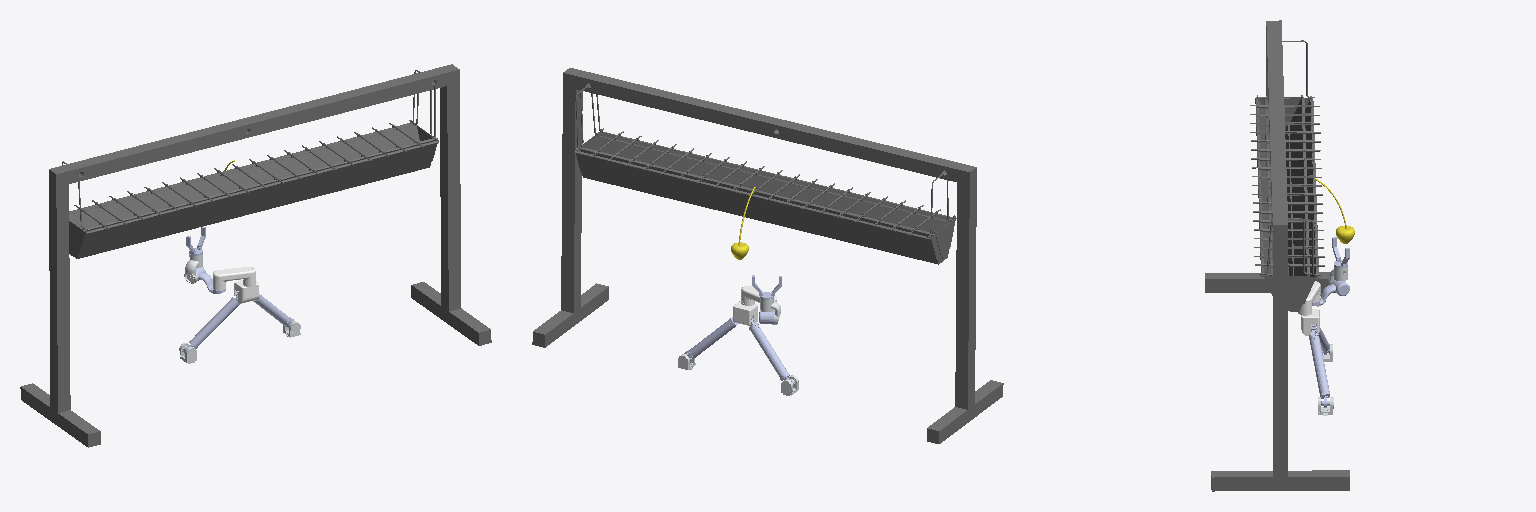
--- Facts derived from the render (not from the file) ---
Views: 3 orthographic renders of the robot side by side, from view 1: azimuth 30°, elevation 25°; view 2: azimuth 150°, elevation 25°; view 3: azimuth 270°, elevation 25°.
Robot: arm12 — 23 links, 22 joints (10 revolute, 6 continuous, 2 prismatic, 4 fixed); root link rotated_base; default pose: all joints at 0.
Visible links, largest first — view 1: left_holder, pot, l6, l3; view 2: left_holder, pot, l3, l11; view 3: left_holder, pot, l11.
Boxes of the visible links, x1,y1,x2,y2 form: left_holder: [20, 64, 491, 447]; pot: [62, 70, 434, 255]; l6: [213, 267, 255, 290]; l3: [184, 292, 239, 352]; left_holder: [532, 68, 1003, 443]; pot: [574, 85, 951, 264]; l3: [749, 316, 793, 385]; l11: [686, 317, 738, 360]; left_holder: [1205, 20, 1349, 491]; pot: [1259, 40, 1324, 311]; l11: [1309, 325, 1329, 407].
Bounding box of the posed robot: 2.42 × 0.731 × 1.44 m (x, y, z).
12 mesh visuals loaded from 14 distinct referenced files (10 binary STL, 2 ASCII STL); not drawn: 2 (reference not matched to a file when rendering).

The robot description file, URDF, robot "arm12":
<?xml version="1.0" ?>
<!-- =================================================================================== -->
<!-- |    This document was autogenerated by xacro from src/arm12/urdf/arm12.urdf.xacro | -->
<!-- |    EDITING THIS FILE BY HAND IS NOT RECOMMENDED                                 | -->
<!-- =================================================================================== -->
<robot name="arm12">
  <!-- <robot
  name="straw"> -->
  <material name="gray">
    <color rgba="0.5 0.5 0.5 1.0"/>
  </material>
  <material name="green">
    <color rgba="0. 1 0. 1.0"/>
  </material>

  <link name="straw_base_link">
    <inertial>
      <origin rpy="0 0 0" xyz="0.72536 -2.6077 -1.278"/>
      <mass value="83.793"/>
      <inertia ixx="49.037" ixy="12.983" ixz="-0.85625" iyy="197.29" iyz="0.10604" izz="153.05"/>
    </inertial>
    <!-- <visual>
      <origin rpy="0 0 0" xyz="0 0 0"/>
      <geometry>
        <mesh filename="package://straw/meshes/straw_base_link.STL" scale="0.75 0.75 0.75"/>
      </geometry>
      <material name="gray"/>
    </visual> -->
    <collision>
      <origin rpy="0 0 0" xyz="0 0 0"/>
      <geometry>
        <mesh filename="package://straw/meshes/straw_base_link.STL"  scale="0.75 0.75 0.75"/>
      </geometry>
    </collision>
  </link>
  <link name="left_holder">
    <inertial>
      <origin rpy="0 0 0" xyz="0.068289 -1.3911 0.41242"/>
      <mass value="90.637"/>
      <inertia ixx="203.28" ixy="-5.2628E-06" ixz="-4.6215E-05" iyy="48.292" iyz="5.4272" izz="157.67"/>
    </inertial>
    <visual>
      <origin rpy="0 0 0" xyz="0 0 0"/>
      <geometry>
        <mesh filename="package://straw/meshes/left_holder.STL"  scale="0.75 0.75 0.75"/>
      </geometry>
      <material name="gray"/>
    </visual>
    <!-- <collision>
      <origin rpy="0 0 0" xyz="0 0 0"/>
      <geometry>
        <mesh filename="package://straw/meshes/left_holder.STL"  scale="0.75 0.75 0.75"/>
      </geometry>
    </collision> -->
  </link>
  <joint name="lh1" type="fixed">
    <!-- <origin rpy="-3.1003 -0.0006971 1.4841" xyz="0 0 0"/> -->
    <origin rpy="-3.1003 -0.0006971 1.4841" xyz="2.1219 -2.7952 -0.90577"/>
    <parent link="straw_base_link"/>
    <child link="left_holder"/>
    <axis xyz="0 0 0"/>
  </joint>
  <link name="pot">
    <inertial>
      <origin rpy="0 0 0" xyz="0.0723 -0.11104 1.4288"/>
      <mass value="7.0989"/>
      <inertia ixx="4.8702" ixy="1.4633E-05" ixz="-1.887E-06" iyy="4.8836" iyz="0.044366" izz="0.12976"/>
    </inertial>
    <visual>
      <origin rpy="0 0 0" xyz="0 0 0"/>
      <geometry>
        <mesh filename="package://straw/meshes/pot.STL"  scale="0.75 0.75 0.75"/>
      </geometry>
      <material name="gray"/>
    </visual>
    <collision>
      <origin rpy="0 0 0" xyz="0 0 0"/>
      <geometry>
        <mesh filename="package://straw/meshes/pot.STL"  scale="0.75 0.75 0.75"/>
      </geometry>
    </collision>
  </link>
  <joint name="lf_pot" type="fixed">
    <origin rpy="-1.5306 0 -3.1416" xyz="0.17343 0.013392 0.017884"/>
    <parent link="left_holder"/>
    <child link="pot"/>
    <axis xyz="0 0 0"/>
  </joint>
  <!-- <link name="stem1">
    <inertial>
      <origin rpy="0 0 0" xyz="0.31086 -0.35019 0.00026615"/>
      <mass value="1.1291"/>
      <inertia ixx="0.0022005" ixy="0.00034925" ixz="-8.6306E-07" iyy="0.002305" iyz="3.3465E-06" izz="0.0025724"/>
    </inertial>
    <visual>
      <origin rpy="0 0 0" xyz="0 0 0"/>
      <geometry>
        <mesh filename="package://straw/meshes/stem1.STL" scale="0.7 0.7 0.7"/>
      </geometry>
      <material name="green"/>
    </visual>
    <collision>
      <origin rpy="0 0 0" xyz="0 0 0"/>
      <geometry>
        <mesh filename="package://straw/meshes/stem1.STL" scale="0.7 0.7 0.7"/>
      </geometry>
    </collision>
  </link> -->
  <!-- <link name="straw1_intermediate">
    <inertial>
      <mass value="0.001"/>
      <inertia ixx="0.0001" ixy="0" ixz="0" iyy="0.0001" iyz="0" izz="0.0001"/>
    </inertial>
  </link> -->
  <!-- <joint name="stem1_straw1_joint_x" type="revolute">
    <parent link="stem1"/>
    <child link="straw1_intermediate"/>
    <origin rpy="0 0 0" xyz="0.33533 -0.43279 -0.0013777"/>
    <axis xyz="1 0 0"/>
    <limit effort="10" lower="-0.785" upper="0.785" velocity="1"/>
    <dynamics damping="0.5" friction="0.1"/>
  </joint> -->
  <!-- <joint name="stem1_straw1_joint_y" type="revolute">
    <parent link="straw1_intermediate"/>
    <child link="straw1"/>
    <origin rpy="0.25307 -1.4835 0" xyz="0 0 0"/>
    <axis xyz="0 1 0"/>
    <limit effort="10" lower="-0.785" upper="0.785" velocity="1"/>
    <dynamics damping="0.5" friction="0.1"/>
  </joint> -->
  <!-- <link name="straw1">
    <inertial>
      <origin rpy="0 0 0" xyz="0 0.075854 -9.8582E-07"/>
      <mass value="1.0831"/>
      <inertia ixx="0.0017742" ixy="3.2552E-19" ixz="2.1395E-23" iyy="0.0019325" iyz="3.2233E-08" izz="0.0017742"/>
    </inertial>
    <visual>
      <origin rpy="0 0 0" xyz="0 0 0"/>
      <geometry>
        <mesh filename="package://straw/meshes/straw1.STL" scale="1 1 1"/>
      </geometry>
      <material name="transparent_gray">
        <color rgba="0.5 0.5 0.5 0"/> 
      </material>
    </visual>
    <collision>
      <origin rpy="0 0 0" xyz="0 0 0"/>
      <geometry>
        <mesh filename="package://straw/meshes/straw1.STL" scale="1 1 1"/>
      </geometry>
    </collision>
  </link> -->
  <!-- <link name="stem2">
    <inertial>
      <origin rpy="0 0 0" xyz="0.32679 -0.34228 -0.0023318"/>
      <mass value="1.1291"/>
      <inertia ixx="0.0022449" ixy="0.00031251" ixz="-4.7508E-06" iyy="0.0022602" iyz="6.5609E-06" izz="0.0025727"/>
    </inertial>
    <visual>
      <origin rpy="0 0 0" xyz="0 0 0"/>
      <geometry>
        <mesh filename="package://straw/meshes/stem2.STL" scale="0.7 0.7 0.7"/>
      </geometry>
      <material name="green"/>
    </visual>
    <collision>
      <origin rpy="0 0 0" xyz="0 0 0"/>
      <geometry>
        <mesh filename="package://straw/meshes/stem2.STL" scale="0.7 0.7 0.7"/>
      </geometry>
    </collision>
  </link> -->
  <!-- <link name="straw2_intermediate">
    <inertial>
      <mass value="0.001"/>
      <inertia ixx="0.0001" ixy="0" ixz="0" iyy="0.0001" iyz="0" izz="0.0001"/>
    </inertial>
  </link> -->
  <!-- <joint name="stem2_straw2_joint_x" type="revolute">
    <parent link="stem2"/>
    <child link="straw2_intermediate"/>
    <origin rpy="0 0 0" xyz="0.37743 -0.41247 -0.0063167"/>
    <axis xyz="1 0 0"/>
    <limit effort="10" lower="-0.785" upper="0.785" velocity="1"/>
    <dynamics damping="0.5" friction="0.1"/>
  </joint> -->
  <!-- <joint name="stem2_straw2_joint_y" type="revolute">
    <parent link="straw2_intermediate"/>
    <child link="straw2"/>
    <origin rpy="0.62832 -1.4835 0" xyz="0 0 0"/>
    <axis xyz="0 1 0"/>
    <limit effort="10" lower="-0.785" upper="0.785" velocity="1"/>
    <dynamics damping="0.5" friction="0.1"/>
  </joint>
  <link name="straw2">
    <inertial>
      <origin rpy="0 0 0" xyz="0 0.075854 -9.8582E-07"/>
      <mass value="1.0831"/>
      <inertia ixx="0.0017742" ixy="2.5998E-20" ixz="2.2169E-24" iyy="0.0019325" iyz="3.2233E-08" izz="0.0017742"/>
    </inertial>
    <visual>
      <origin rpy="0 0 0" xyz="0 0 0"/>
      <geometry>
        <mesh filename="package://straw/meshes/straw2.STL" scale="1 1 1"/>
      </geometry>
      <material name="transparent_gray">
        <color rgba="0.5 0.5 0.5 0"/> 
      </material>
    </visual>
    <collision>
      <origin rpy="0 0 0" xyz="0 0 0"/>
      <geometry>
        <mesh filename="package://straw/meshes/straw2.STL" scale="1 1 1"/>
      </geometry>
    </collision>
  </link> -->
  <link name="stem3">
    <inertial>
      <origin rpy="0 0 0" xyz="0.31061 -0.35019 -0.0026474"/>
      <mass value="1.1291"/>
      <inertia ixx="0.0022005" ixy="0.00034925" ixz="-8.6306E-07" iyy="0.002305" iyz="3.3465E-06" izz="0.0025724"/>
    </inertial>
    <visual>
      <origin rpy="0 0 0" xyz="0 0 0"/>
      <geometry>
        <mesh filename="package://straw/meshes/stem3.STL" scale="0.7 0.7 0.7"/>
      </geometry>
      <!-- <material name="gray"/> -->
    </visual>
    <collision>
      <origin rpy="0 0 0" xyz="0 0 0"/>
      <geometry>
        <mesh filename="package://straw/meshes/stem3.STL" scale="0.7 0.7 0.7"/>
      </geometry>
    </collision>
  </link>
  <link name="straw3_intermediate">
    <inertial>
      <mass value="0.001"/>
      <inertia ixx="0.0001" ixy="0" ixz="0" iyy="0.0001" iyz="0" izz="0.0001"/>
    </inertial>
  </link>
  <joint name="stem3_straw3_joint_x" type="revolute">
    <parent link="stem3"/>
    <child link="straw3_intermediate"/>
    <origin rpy="0 0 0" xyz="0.33506 -0.43279 -0.0044151"/>
    <axis xyz="1 0 0"/>
    <limit effort="10" lower="-0.785" upper="0.785" velocity="1"/>
    <dynamics damping="0.5" friction="0.1"/>
  </joint>
  <joint name="stem3_straw3_joint_y" type="revolute">
    <parent link="straw3_intermediate"/>
    <child link="straw3"/>
    <origin rpy="0.25307 -1.4835 0" xyz="0 0 0"/>
    <axis xyz="0 1 0"/>
    <limit effort="10" lower="-0.785" upper="0.785" velocity="1"/>
    <dynamics damping="0.5" friction="0.1"/>
  </joint>
  <link name="straw3">
    <inertial>
      <origin rpy="0 0 0" xyz="-2.2204E-16 0.075854 -9.8582E-07"/>
      <mass value="1.0831"/>
      <inertia ixx="0.0017742" ixy="6.2414E-20" ixz="1.0659E-23" iyy="0.0019325" iyz="3.2233E-08" izz="0.0017742"/>
    </inertial>
    <visual>
      <origin rpy="0 0 0" xyz="0 0 0"/>
      <geometry>
        <mesh filename="package://straw/meshes/straw3.STL" scale="1 1 1" />
      </geometry>
      <material name="transparent_gray">
        <color rgba="0.5 0.5 0.5 0"/> 
      </material>

    </visual>
    <!-- <collision>
      <origin rpy="0 0 0" xyz="0 0 0"/>
      <geometry>
        <mesh filename="package://straw/meshes/straw3.STL" scale="0.75 0.75 0.75"/>
      </geometry>
    </collision> -->
  </link>
  <!-- <link name="right_holder">
    <inertial>
      <origin rpy="0 0 0" xyz="0.16998 1.3378 0.16679"/>
      <mass value="7.0141"/>
      <inertia ixx="4.8686" ixy="1.7169E-06" ixz="-4.633E-05" iyy="0.12782" iyz="-0.073617" izz="4.8819"/>
    </inertial>
    <visual>
      <origin rpy="0 0 0" xyz="0 0 0"/>
      <geometry>
        <mesh filename="package://straw/meshes/right_holder.STL"/>
      </geometry>
      <material name="gray"/>
    </visual>
    <collision>
      <origin rpy="0 0 0" xyz="0 0 0"/>
      <geometry>
        <mesh filename="package://straw/meshes/right_holder.STL"/>
      </geometry>
    </collision>
  </link> -->
  <!-- <joint name="rh1" type="fixed">
    <origin rpy="3.1178 -0.0006971 1.4841" xyz="-0.64819 -2.6236 -0.90294"/>
    <parent link="base_link"/>
    <child link="right_holder"/>
    <axis xyz="0 0 0"/>
  </joint> -->
  <link name="stem1_intermediate1">
    <inertial>
      <mass value="0.001"/>
      <inertia ixx="0.0001" ixy="0" ixz="0" iyy="0.0001" iyz="0" izz="0.0001"/>
    </inertial>
  </link>
  <link name="stem1_intermediate2">
    <inertial>
      <mass value="0.001"/>
      <inertia ixx="0.0001" ixy="0" ixz="0" iyy="0.0001" iyz="0" izz="0.0001"/>
    </inertial>
  </link>
  <joint name="pot_stem1_x" type="revolute">
    <parent link="pot"/>
    <child link="stem1_intermediate1"/>
    <origin rpy="0 0 0" xyz="-0.069846 0.034051 0.92078"/>
    <axis xyz="1 0 0"/>
    <limit effort="10" lower="-0.523" upper="0.523" velocity="1"/>
    <dynamics damping="0.5" friction="0.1"/>
  </joint>
  <joint name="pot_stem1_y" type="revolute">
    <parent link="stem1_intermediate1"/>
    <child link="stem1_intermediate2"/>
    <origin rpy="0 0 0" xyz="0 0 0"/>
    <axis xyz="0 1 0"/>
    <limit effort="10" lower="-0.523" upper="0.523" velocity="1"/>
    <dynamics damping="0.5" friction="0.1"/>
  </joint>
  <!-- <joint name="pot_stem1_z" type="revolute">
    <parent link="stem1_intermediate2"/>
    <child link="stem1"/>
    <origin rpy="3.1189 0.0035789 -2.8888" xyz="0 0 0"/>
    <axis xyz="0 0 1"/>
    <limit effort="10" lower="-0.523" upper="0.523" velocity="1"/>
    <dynamics damping="0.5" friction="0.1"/>
  </joint> -->
  <link name="stem2_intermediate1">
    <inertial>
      <mass value="0.001"/>
      <inertia ixx="0.0001" ixy="0" ixz="0" iyy="0.0001" iyz="0" izz="0.0001"/>
    </inertial>
  </link>
  <link name="stem2_intermediate2">
    <inertial>
      <mass value="0.001"/>
      <inertia ixx="0.0001" ixy="0" ixz="0" iyy="0.0001" iyz="0" izz="0.0001"/>
    </inertial>
  </link>
  <joint name="pot_stem2_x" type="revolute">
    <parent link="pot"/>
    <child link="stem2_intermediate1"/>
    <origin rpy="0 0 0" xyz="-0.071011 0.062145 0.99538"/>
    <axis xyz="1 0 0"/>
    <limit effort="10" lower="-0.523" upper="0.523" velocity="1"/>
    <dynamics damping="0.5" friction="0.1"/>
  </joint>
  <joint name="pot_stem2_y" type="revolute">
    <parent link="stem2_intermediate1"/>
    <child link="stem2_intermediate2"/>
    <origin rpy="0 0 0" xyz="0 0 0"/>
    <axis xyz="0 1 0"/>
    <limit effort="10" lower="-0.523" upper="0.523" velocity="1"/>
    <dynamics damping="0.5" friction="0.1"/>
  </joint>
  <!-- <joint name="pot_stem2_z" type="revolute">
    <parent link="stem2_intermediate2"/>
    <child link="stem2"/>
    <origin rpy="3.0898 0.017653 -2.5152" xyz="0 0 0"/>
    <axis xyz="0 0 1"/>
    <limit effort="10" lower="-0.523" upper="0.523" velocity="1"/>
    <dynamics damping="0.5" friction="0.1"/>
  </joint> -->
  <link name="stem3_intermediate1">
    <inertial>
      <mass value="0.001"/>
      <inertia ixx="0.0001" ixy="0" ixz="0" iyy="0.0001" iyz="0" izz="0.0001"/>
    </inertial>
  </link>
  <link name="stem3_intermediate2">
    <inertial>
      <mass value="0.001"/>
      <inertia ixx="0.0001" ixy="0" ixz="0" iyy="0.0001" iyz="0" izz="0.0001"/>
    </inertial>
  </link>
  <joint name="pot_stem3_x" type="revolute">
    <parent link="pot"/>
    <child link="stem3_intermediate1"/>
    <origin rpy="0 0 0" xyz="-0.05556 0.033891 1.0852"/>
    <axis xyz="1 0 0"/>
    <limit effort="10" lower="-0.523" upper="0.523" velocity="1"/>
    <dynamics damping="0.5" friction="0.1"/>
  </joint>
  <joint name="pot_stem3_y" type="revolute">
    <parent link="stem3_intermediate1"/>
    <child link="stem3_intermediate2"/>
    <origin rpy="0 0 0" xyz="0 0 0"/>
    <axis xyz="0 1 0"/>
    <limit effort="10" lower="-0.523" upper="0.523" velocity="1"/>
    <dynamics damping="0.5" friction="0.1"/>
  </joint>
  <joint name="pot_stem3_z" type="revolute">
    <parent link="stem3_intermediate2"/>
    <child link="stem3"/>
    <origin rpy="3.1189 0.0035789 -2.8888" xyz="0 0 0"/>
    <axis xyz="0 0 1"/>
    <limit effort="10" lower="-0.523" upper="0.523" velocity="1"/>
    <dynamics damping="0.5" friction="0.1"/>
  </joint>
  <link name="rotated_base"/>
  <joint name="rot_to_base" type="fixed">
    <parent link="rotated_base"/>
    <child link="base_link"/>
    <origin rpy="0 3.14 0" xyz="0 0 0"/>
  </joint>
  <joint name="attach_straw" type="fixed">
    <parent link="rotated_base"/>
    <child link="straw_base_link"/>
    <origin rpy="0 0 0.1" xyz="-1.3 2.3 2"/>
  </joint>
  <link name="base_link">
    <inertial>
      <origin rpy="0 0 0" xyz="-0.114741653388133 -0.00394836028883594 -0.0536105920933669"/>
      <mass value="2.63443753992699"/>
      <inertia ixx="0.00189567328668365" ixy="7.29873865389891E-06" ixz="0.000140090900098037" iyy="0.158992383742472" iyz="1.36209227842431E-06" izz="0.158257846821755"/>
    </inertial>
    <visual>
      <origin rpy="0 0 0" xyz="0 0 0"/>
      <geometry>
        <mesh filename="package://arm12/meshes/base_link.STL"/>
      </geometry>
      <material name="">
        <color rgba="0.792156862745098 0.819607843137255 0.933333333333333 1"/>
      </material>
    </visual>
    <collision>
      <origin rpy="0 0 0" xyz="0 0 0"/>
      <geometry>
        <mesh filename="package://arm12/meshes/base_link.STL"/>
      </geometry>
    </collision>
  </link>
  <link name="l1">
    <inertial>
      <origin rpy="0 0 0" xyz="0.403597483420043 -0.0414638574022828 0.00700359932104074"/>
      <mass value="0.381600228345592"/>
      <inertia ixx="0.000152419359459052" ixy="-1.16717541525886E-07" ixz="-4.78639401455686E-07" iyy="0.00015874224871389" iyz="3.26007402233397E-07" izz="0.000167838112577603"/>
    </inertial>
    <visual>
      <origin rpy="0 0 0" xyz="0 0 0"/>
      <geometry>
        <mesh filename="package://arm12/meshes/l1.STL"/>
      </geometry>
      <material name="">
        <color rgba="0.898039215686275 0.917647058823529 0.929411764705882 1"/>
      </material>
    </visual>
    <collision>
      <origin rpy="0 0 0" xyz="0 0 0"/>
      <geometry>
        <mesh filename="package://arm12/meshes/l1.STL"/>
      </geometry>
    </collision>
  </link>
  <joint name="j1" type="prismatic">
    <origin rpy="1.5708 0 0" xyz="-0.79073 0.0075 -0.026676"/>
    <parent link="base_link"/>
    <child link="l1"/>
    <axis xyz="1 0.00024256 0"/>
    <limit effort="1000" lower="-0.37" upper="0.35" velocity="1000"/>
  </joint>
  <link name="l11">
    <inertial>
      <origin rpy="0 0 0" xyz="0.109124708134365 -0.106742142823085 0.0291269836365173"/>
      <mass value="0.308192429361636"/>
      <inertia ixx="0.00036660835632017" ixy="0.000236532188858594" ixz="-5.91891737788076E-05" iyy="0.000377052003364126" iyz="5.79126892712075E-05" izz="0.000595833629485193"/>
    </inertial>
    <visual>
      <origin rpy="0 0 0" xyz="0 0 0"/>
      <geometry>
        <mesh filename="package://arm12/meshes/l11.STL"/>
      </geometry>
      <material name="">
        <color rgba="0.792156862745098 0.819607843137255 0.933333333333333 1"/>
      </material>
    </visual>
    <collision>
      <origin rpy="0 0 0" xyz="0 0 0"/>
      <geometry>
        <mesh filename="package://arm12/meshes/l11.STL"/>
      </geometry>
    </collision>
  </link>
  <joint name="j11" type="continuous">
    <origin rpy="0 0 0" xyz="0.403574468337888 -0.0486058728976355 -0.000248553231492891"/>
    <parent link="l1"/>
    <child link="l11"/>
    <axis xyz="0 0 -1"/>
  </joint>
  <link name="l2">
    <inertial>
      <origin rpy="0 0 0" xyz="1.0157003601035 -0.0384463563381593 0.00765610841163893"/>
      <mass value="0.51688405008029"/>
      <inertia ixx="0.000289252991255811" ixy="6.16500231917276E-07" ixz="-1.38368241480024E-06" iyy="0.000291829291446418" iyz="-1.10552388292668E-06" izz="0.00026788505040365"/>
    </inertial>
    <visual>
      <origin rpy="0 0 0" xyz="0 0 0"/>
      <geometry>
        <mesh filename="package://arm12/meshes/l2.STL"/>
      </geometry>
      <material name="">
        <color rgba="0.898039215686275 0.917647058823529 0.929411764705882 1"/>
      </material>
    </visual>
    <collision>
      <origin rpy="0 0 0" xyz="0 0 0"/>
      <geometry>
        <mesh filename="package://arm12/meshes/l2.STL"/>
      </geometry>
    </collision>
  </link>
  <joint name="j2" type="prismatic">
    <origin rpy="1.5708 0 0" xyz="-0.79073 0.0075 -0.026676"/>
    <parent link="base_link"/>
    <child link="l2"/>
    <axis xyz="1 0.00024256 0"/>
    <limit effort="1000" lower="-0.26" upper="0.32" velocity="1000"/>
  </joint>
  <link name="l3">
    <inertial>
      <origin rpy="0 0 0" xyz="-0.10814121670337 -0.105773126393835 0.0288760940795127"/>
      <mass value="0.306128922940993"/>
      <inertia ixx="0.000367090541907876" ixy="-0.000237220677320172" ixz="5.90721357269542E-05" iyy="0.000377593275938236" iyz="5.77716342409563E-05" izz="0.000596928132744383"/>
    </inertial>
    <visual>
      <origin rpy="0 0 0" xyz="0 0 0"/>
      <geometry>
        <mesh filename="package://arm12/meshes/l3.STL"/>
      </geometry>
      <material name="">
        <color rgba="0.792156862745098 0.819607843137255 0.933333333333333 1"/>
      </material>
    </visual>
    <collision>
      <origin rpy="0 0 0" xyz="0 0 0"/>
      <geometry>
        <mesh filename="package://arm12/meshes/l3.STL"/>
      </geometry>
    </collision>
  </link>
  <joint name="j3" type="revolute">
    <origin rpy="0 0 0" xyz="1.0158 -0.048606 -0.00024711"/>
    <parent link="l2"/>
    <child link="l3"/>
    <axis xyz="0 0 -1"/>
    <limit effort="1000" lower="-0.65" upper="0.7" velocity="1000"/>
  </joint>
  <link name="l4">
    <inertial>
      <origin rpy="0 0 0" xyz="-0.0247644704780808 -0.0233597492007901 0.033905617015353"/>
      <mass value="0.247877954974344"/>
      <inertia ixx="0.000275512262276771" ixy="-4.01235172214852E-08" ixz="5.68470398676511E-07" iyy="0.000303231827207215" iyz="4.68448608364464E-05" izz="0.000495903390975614"/>
    </inertial>
    <visual>
      <origin rpy="0 0 0" xyz="0 0 0"/>
      <geometry>
        <mesh filename="package://arm12/meshes/l4.STL"/>
      </geometry>
      <material name="">
        <color rgba="1 1 1 1"/>
      </material>
    </visual>
    <collision>
      <origin rpy="0 0 0" xyz="0 0 0"/>
      <geometry>
        <mesh filename="package://arm12/meshes/l4.STL"/>
      </geometry>
    </collision>
  </link>
  <joint name="j4" type="continuous">
    <origin rpy="0 0 0" xyz="-0.2814 -0.27508 0.049459"/>
    <parent link="l3"/>
    <child link="l4"/>
    <axis xyz="0 0 1"/>
    <limit effort="1000" lower="1000" upper="1000" velocity="1000"/>
    <mimic joint="j3" multiplier="1" offset="0"/>
  </joint>
  <link name="l6">
    <inertial>
      <origin rpy="0 0 0" xyz="0.0835083121801821 -0.0131318490598266 -0.022315022598535"/>
      <mass value="0.492993890644909"/>
      <inertia ixx="0.000390471608455916" ixy="2.48268434817755E-06" ixz="0.000302295718302552" iyy="0.00155512945705818" iyz="-1.20122073303538E-06" izz="0.00147705952278512"/>
    </inertial>
    <visual>
      <origin rpy="0 0 0" xyz="0 0 0"/>
      <geometry>
        <mesh filename="package://arm12/meshes/l6.STL"/>
      </geometry>
      <material name="">
        <color rgba="1 1 1 1"/>
      </material>
    </visual>
    <collision>
      <origin rpy="0 0 0" xyz="0 0 0"/>
      <geometry>
        <mesh filename="package://arm12/meshes/l6.STL"/>
      </geometry>
    </collision>
  </link>
  <joint name="j6" type="continuous">
    <origin rpy="0 0 0" xyz="-0.031134 -0.097956 0.059414"/>
    <parent link="l4"/>
    <child link="l6"/>
    <axis xyz="0 1 0"/>
    <limit effort="1000" lower="1000" upper="1000" velocity="1000"/>
  </joint>
  <link name="l7">
    <inertial>
      <origin rpy="0 0 0" xyz="0.0315318501806746 0.00583507478957768 -0.0817967507514115"/>
      <mass value="0.200740625287396"/>
      <inertia ixx="0.000563180696639149" ixy="8.48547014814516E-05" ixz="0.000202999903698582" iyy="0.000610313185565538" iyz="-0.000156946216691284" izz="0.000315973335029523"/>
    </inertial>
    <visual>
      <origin rpy="0 0 0" xyz="0 0 0"/>
      <geometry>
        <mesh filename="package://arm12/meshes/l7.STL"/>
      </geometry>
      <material name="">
        <color rgba="0.792156862745098 0.819607843137255 0.933333333333333 1"/>
      </material>
    </visual>
    <collision>
      <origin rpy="0 0 0" xyz="0 0 0"/>
      <geometry>
        <mesh filename="package://arm12/meshes/l7.STL"/>
      </geometry>
    </collision>
  </link>
  <joint name="j7" type="continuous">
    <origin rpy="0 0 0" xyz="0.16802 0 -0.043732"/>
    <parent link="l6"/>
    <child link="l7"/>
    <axis xyz="0 1 0"/>
    <limit effort="1000" lower="1000" upper="1000" velocity="1000"/>
  </joint>
  <link name="l8">
    <inertial>
      <origin rpy="0 0 0" xyz="-0.00639785855543679 -0.105467190035519 0.0332454721635889"/>
      <mass value="0.232745208884819"/>
      <inertia ixx="0.000344329566709667" ixy="-0.000100351533357395" ixz="-3.41790292256826E-06" iyy="0.000220748774570507" iyz="9.99580236012298E-06" izz="0.000406188026813068"/>
    </inertial>
    <visual>
      <origin rpy="0 1.57 0" xyz="-0.042  -0.274 0.085"/>
      <geometry>
        <mesh filename="package://arm12/meshes/l8.STL"/>
      </geometry>
      <material name="">
        <color rgba="0.898039215686275 0.917647058823529 0.929411764705882 1"/>
      </material>
    </visual>
    <collision>
      <origin rpy="0 1.57 0" xyz="-0.042  -0.274 0.085"/>
      <geometry>
        <mesh filename="package://arm12/meshes/l8.STL"/>
      </geometry>
    </collision>
  </link>
  <joint name="j8" type="continuous">
    <origin rpy="0.48 -0.47 0" xyz="0.057439 -0.0094087 -0.13"/>
    <parent link="l7"/>
    <child link="l8"/>
    <axis xyz="-1 0 0"/>
    <limit effort="1000" lower="1000" upper="1000" velocity="1000"/>
  </joint>
  <link name="tool0">
    <inertial>
      <origin rpy="0 0 0" xyz="0.0835083121801821 -0.0131318490598266 -0.022315022598535"/>
      <mass value="0.492993890644909"/>
      <inertia ixx="0.000390471608455916" ixy="2.48268434817755E-06" ixz="0.000302295718302552" iyy="0.00155512945705818" iyz="-1.20122073303538E-06" izz="0.00147705952278512"/>
    </inertial>
    <visual>
      <origin rpy="1.57 0 0" xyz="-0.0773 0.042 -0.036"/>
      <geometry>
        <mesh filename="package://arm12/meshes/gripper.STL"/>
      </geometry>
      <material name="">
        <color rgba="0.792156862745098 0.819607843137255 0.933333333333333 1"/>
      </material>
    </visual>
    <collision>
      <origin rpy="0 0 0 " xyz="0 0 0"/>
      <geometry>
        <mesh filename="package://arm12/meshes/gripper.STL"/>
      </geometry>
    </collision>
  </link>
  <joint name="tool0_joint" type="continuous">
    <axis xyz="0 -1 0"/>
    <limit effort="1000" lower="1000" upper="1000" velocity="1000"/>
    <parent link="l8"/>
    <child link="tool0"/>
    <origin rpy="-0.48 0 0" xyz="-0.007 -0.09 0.047"/>
  </joint>
</robot>
<!-- <origin xyz="-0.025 -0.2 0.05" rpy="-0.35 -0.50 0"/> -->
